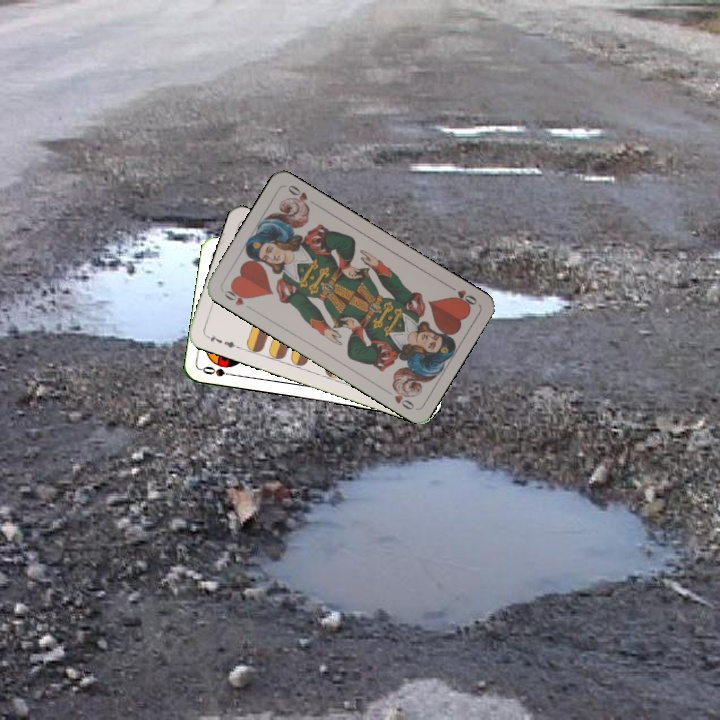E7: (202, 331, 241, 351)
HO: (443, 281, 480, 310), (220, 283, 252, 308)
SO: (198, 362, 238, 379)
